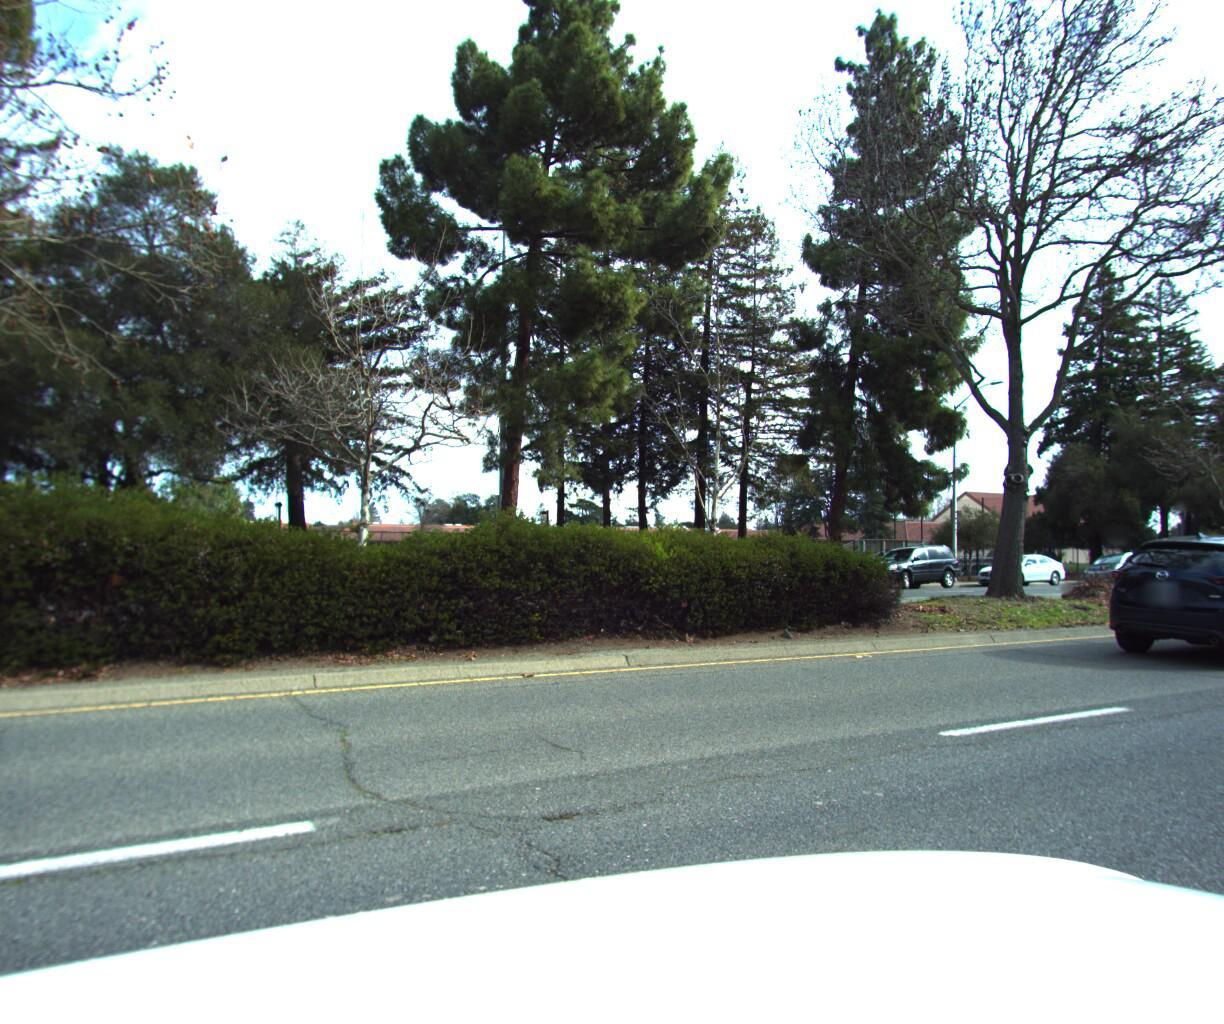car: (1085, 517, 1224, 669), (850, 536, 967, 589), (966, 545, 1067, 581)
